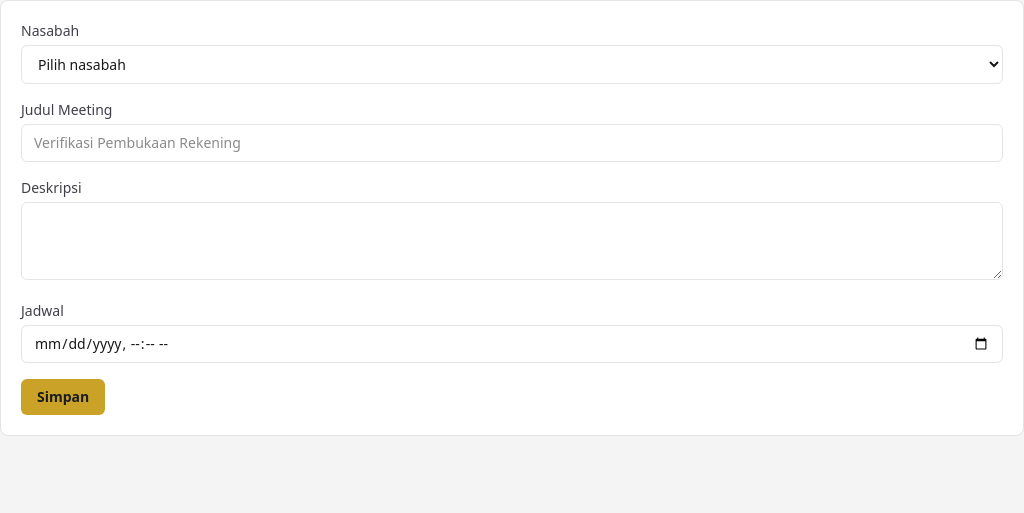
MeetingForm › requires a customer and title before submitting
Click the button "Simpan" at [63, 397], box [21,379,105,415]
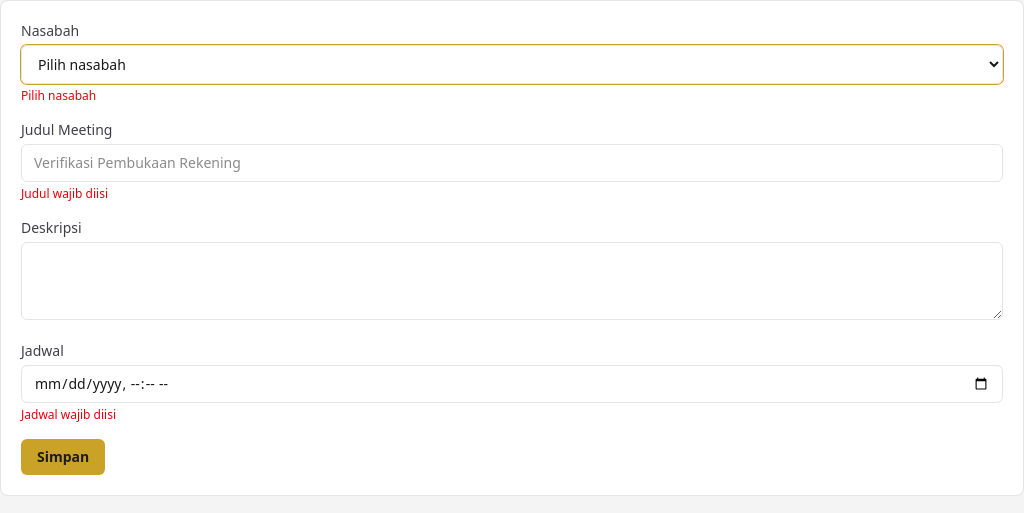
Expected: the text "Pilih nasabah" is shown, [21,87,96,104]
